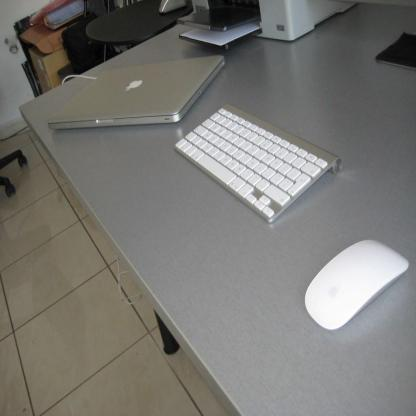board: (48, 55, 226, 131)
